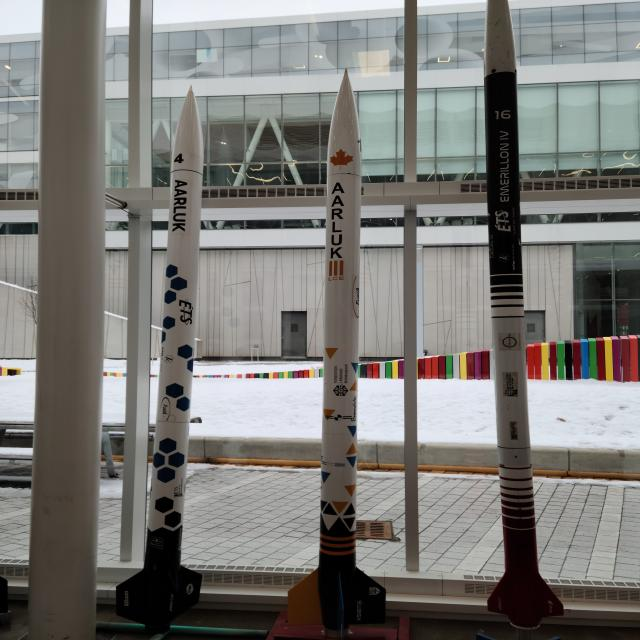Rocket: (288, 67, 386, 638), (484, 0, 564, 628), (116, 84, 204, 634)
